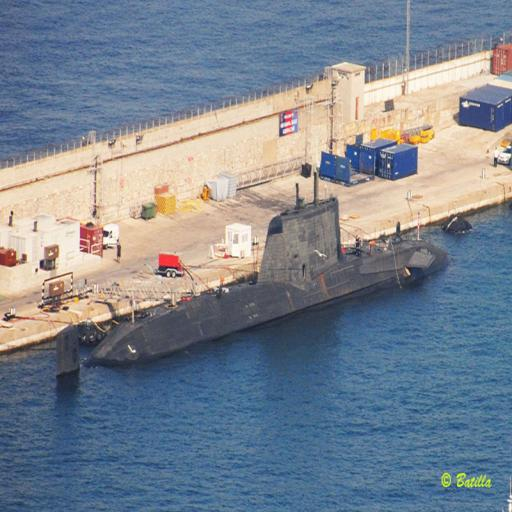submarine: (55, 194, 448, 377)
